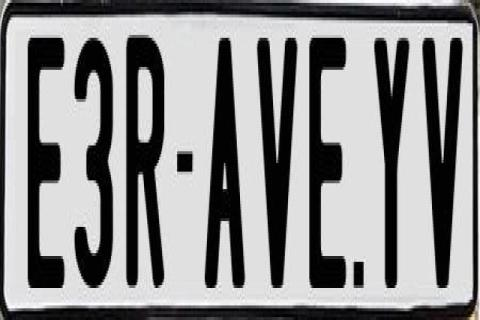0: (75, 32, 113, 282)
A: (205, 32, 252, 300)
E: (26, 29, 66, 282), (306, 29, 346, 282)
R: (126, 29, 166, 294)
V: (256, 35, 300, 294), (422, 35, 463, 303)
Y: (371, 38, 407, 302)
